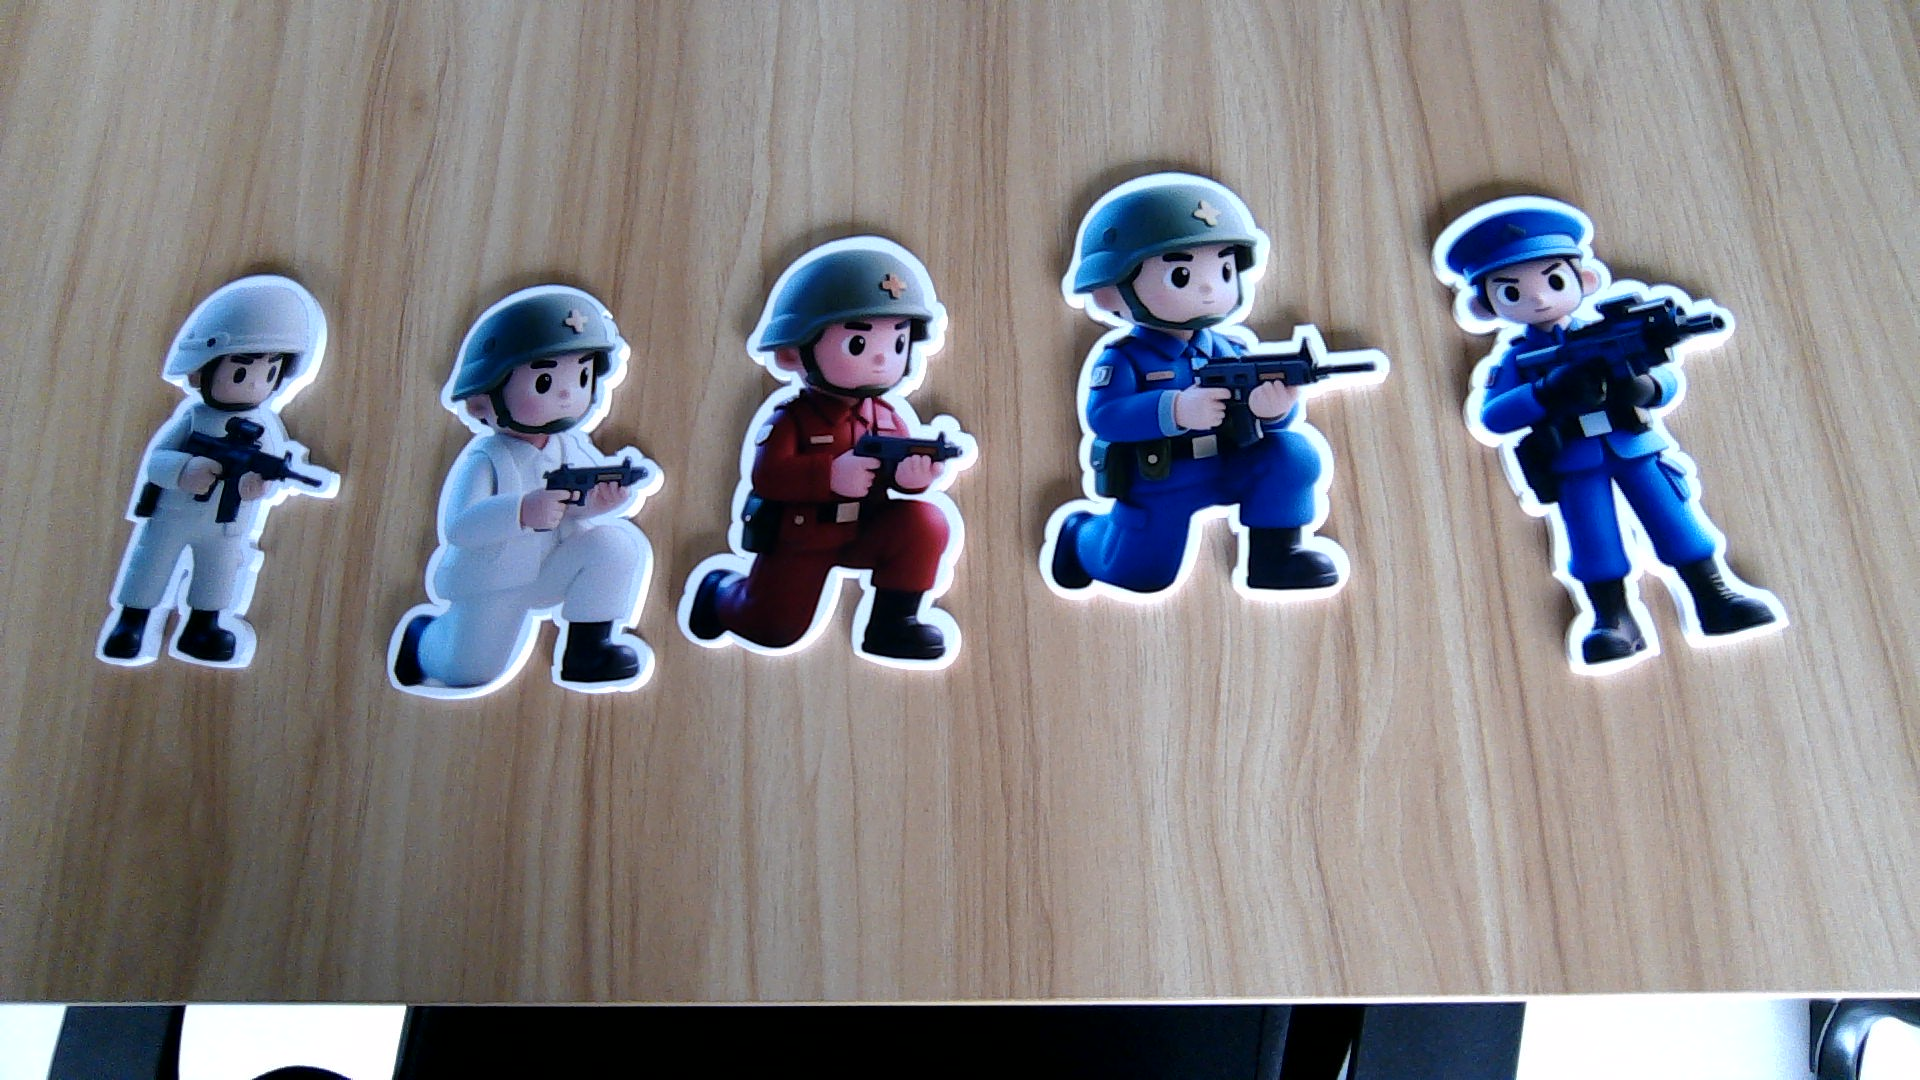人质: (382, 435, 669, 702), (86, 407, 342, 675)
敌人1: (669, 386, 986, 673)
敌人2: (1462, 336, 1822, 678), (1036, 334, 1389, 607)
